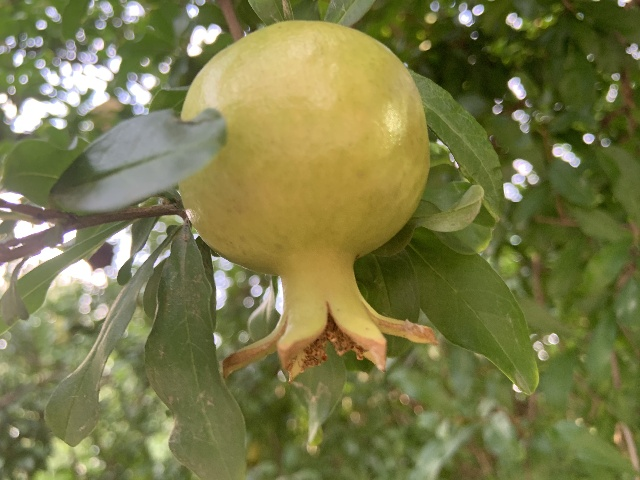mid-growth: (179, 20, 441, 381)
